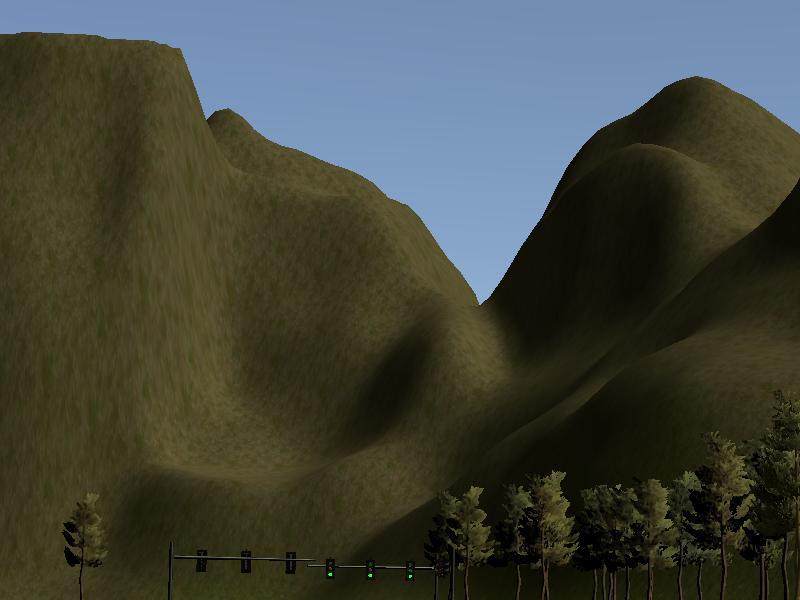Green: (404, 555, 414, 583), (324, 557, 336, 580), (366, 557, 376, 583)
